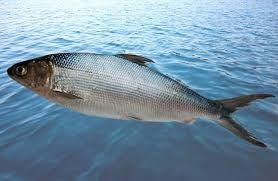Bangus: (6, 50, 274, 150)
